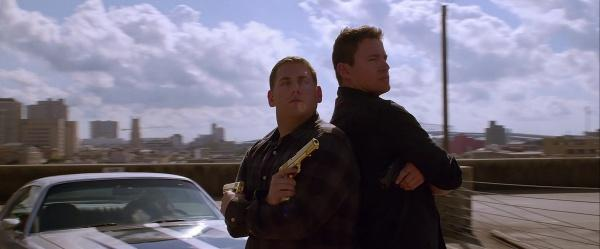Gun: (277, 137, 322, 202), (222, 180, 246, 196)
